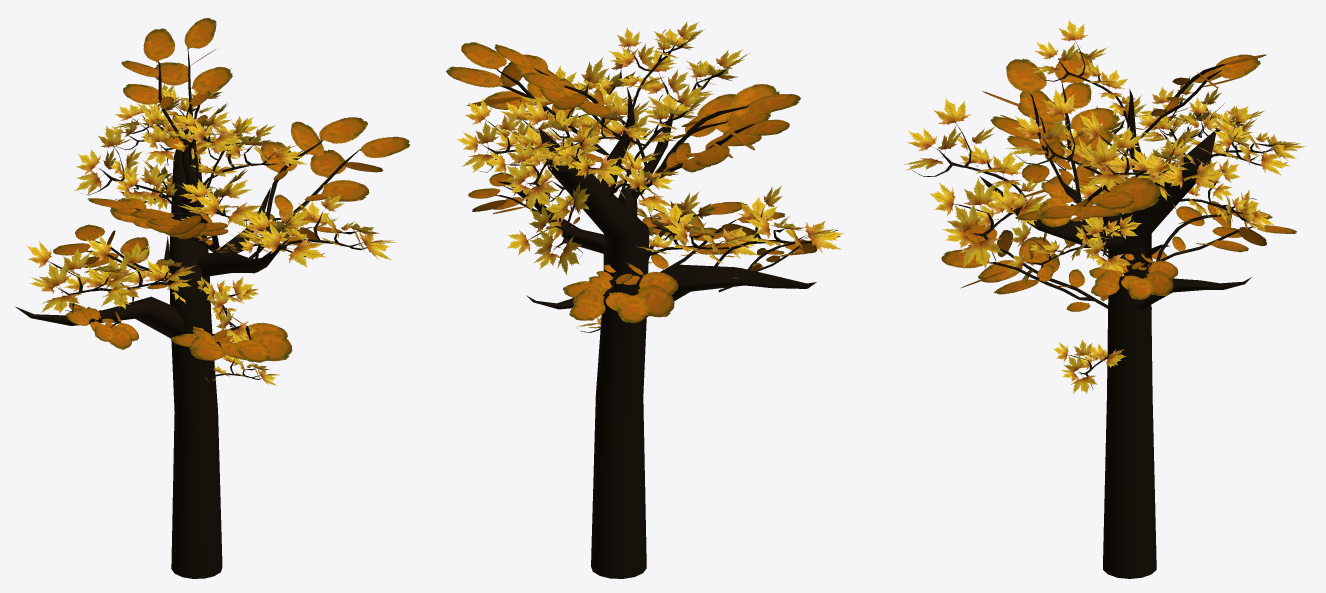
The model's file is yellowtree12.fbx.
The picture shows the model from 3 angles, left to right: view 1: azimuth 30°, elevation 25°; view 2: azimuth 150°, elevation 25°; view 3: azimuth 270°, elevation 25°; orthographic projection. The views are drawn at different scales.
Parts seen in each view (by area): view 1: purpletrees:pCylinder116; view 2: purpletrees:pCylinder116; view 3: purpletrees:pCylinder116.
Boxes of the visible parts, bbox=[...] form: purpletrees:pCylinder116: bbox=[15, 18, 409, 578]; purpletrees:pCylinder116: bbox=[446, 21, 844, 578]; purpletrees:pCylinder116: bbox=[904, 19, 1306, 578].
Bounding box in the file's own units: 33.1 × 42.38 × 30.43.
